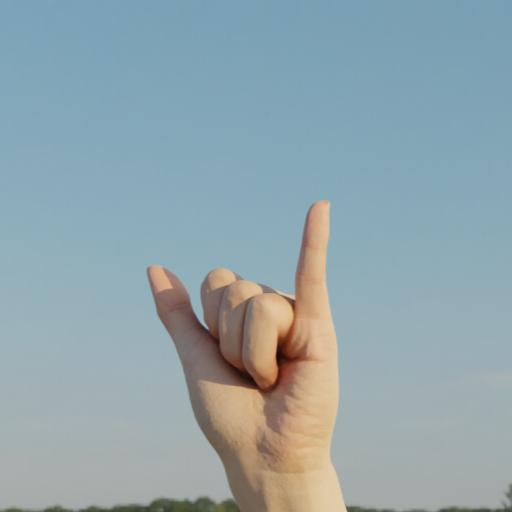Y: (143, 194, 347, 467)
